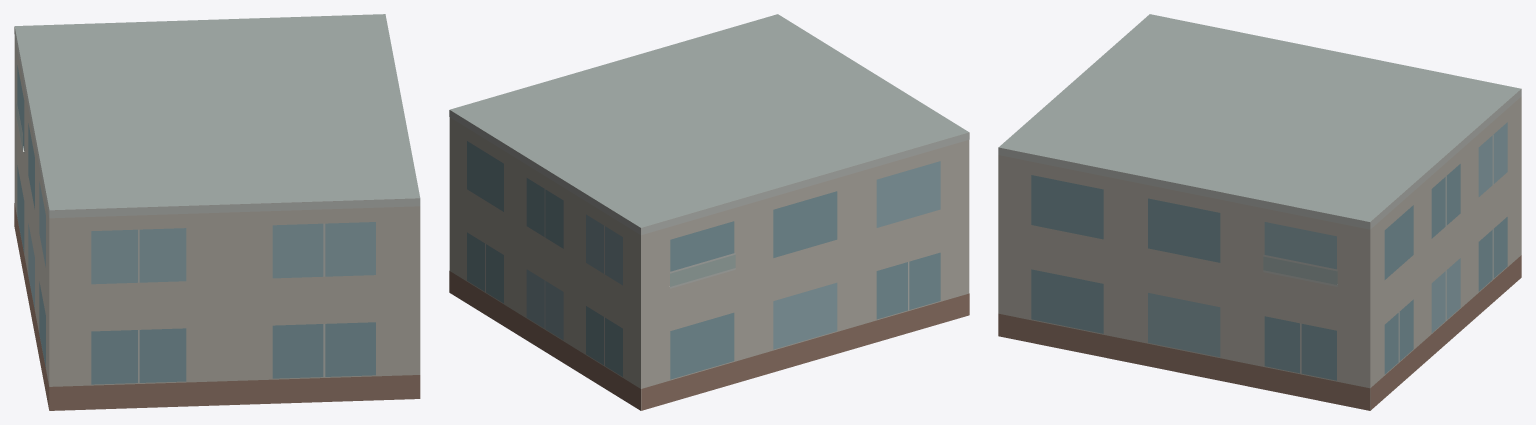
Rendered from survey-upis-32612452.glb.
3 renders of one model, left to right at view 1: azimuth 30°, elevation 25°; view 2: azimuth 150°, elevation 25°; view 3: azimuth 270°, elevation 25°, orthographic. The views are drawn at different scales.
Visible parts, largest first — view 1: survey-upis-32612452.tmp; view 2: survey-upis-32612452.tmp; view 3: survey-upis-32612452.tmp.
Boxes of the visible parts, x1=… form: survey-upis-32612452.tmp: x1=14, y1=14, x2=420, y2=410; survey-upis-32612452.tmp: x1=449, y1=14, x2=969, y2=410; survey-upis-32612452.tmp: x1=998, y1=14, x2=1521, y2=410.
Bounding box in the file's own units: 14.43 × 6.1 × 15.33.
